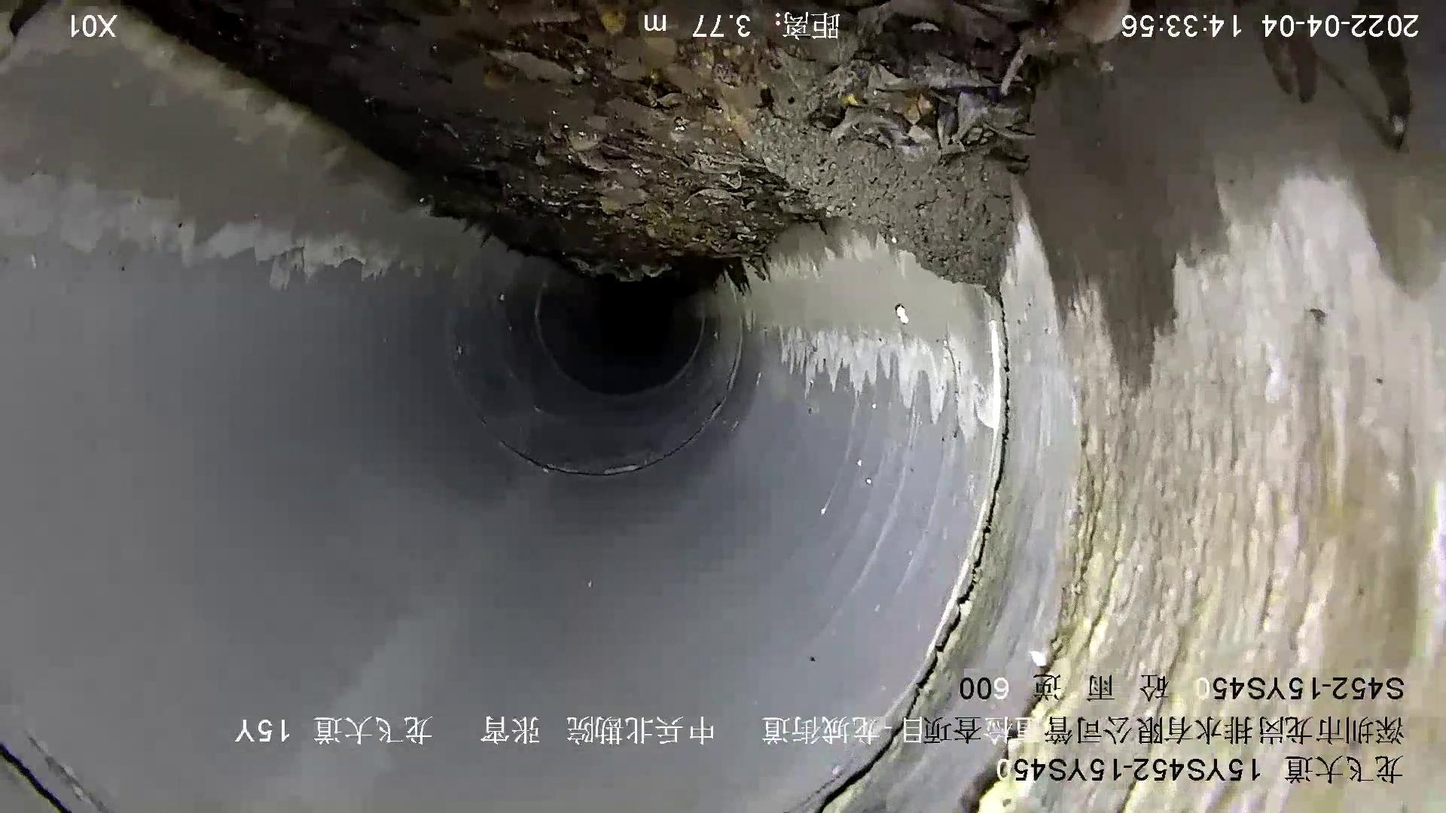CJ: (142, 1, 1127, 286)
